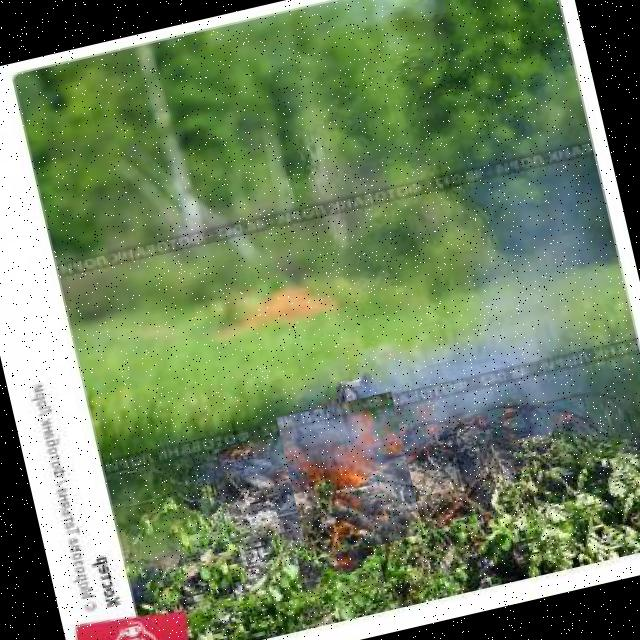fire: (276, 391, 424, 560)
